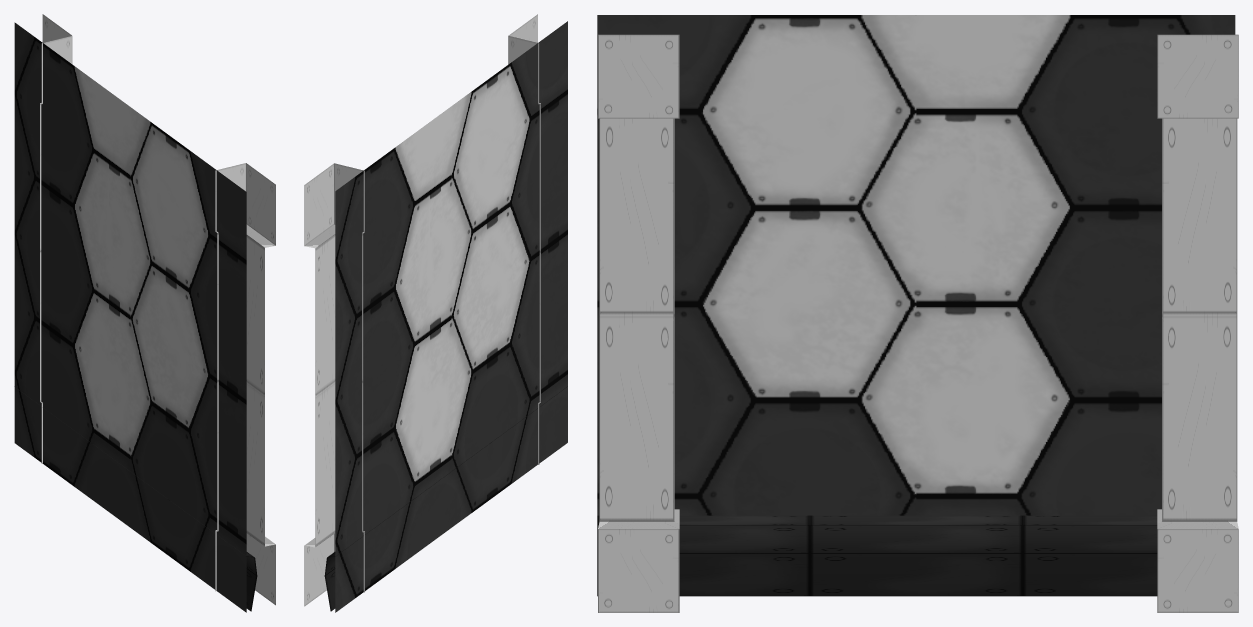
File: Wall_Uup.fbx
The picture shows the model from 3 angles, left to right: view 1: azimuth 30°, elevation 25°; view 2: azimuth 150°, elevation 25°; view 3: azimuth 270°, elevation 25°; orthographic projection. The views are drawn at different scales.
Visible parts, largest first — view 1: pPlane145; view 2: pPlane145; view 3: pPlane145.
Part boxes in pixels (<box>): pPlane145: <box>14,14,275,612</box>; pPlane145: <box>304,14,567,612</box>; pPlane145: <box>597,15,1238,612</box>.
Bounding box in the file's own units: 0.1534 × 2 × 2.01.
